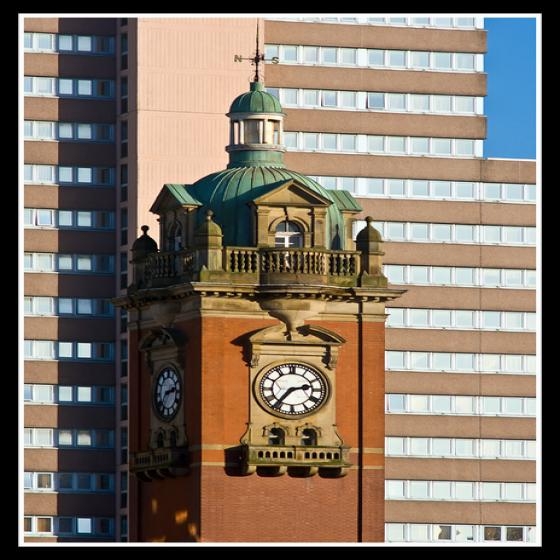clock: (259, 364, 327, 416), (153, 368, 180, 419)
